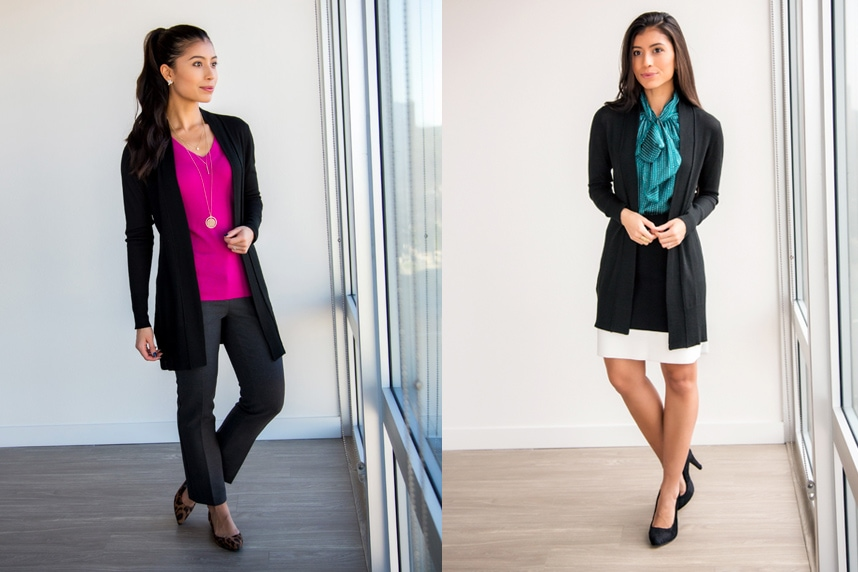F_W_suit jacket: (114, 108, 290, 364), (585, 95, 728, 341)
